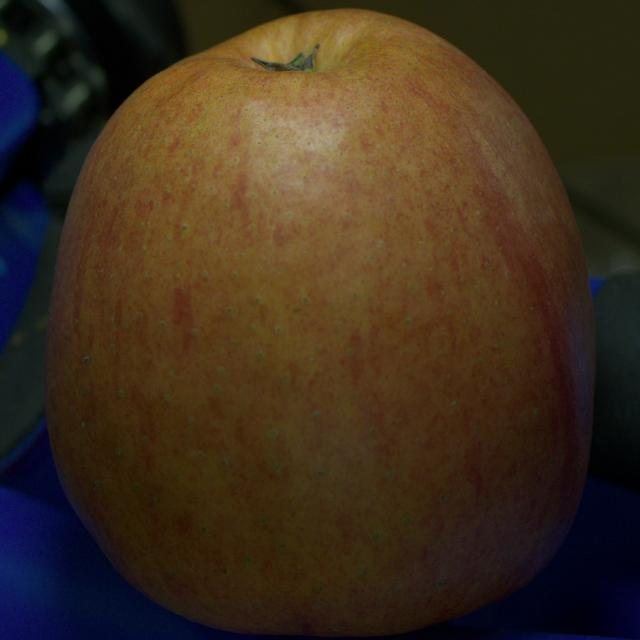apple: (46, 9, 595, 635)
